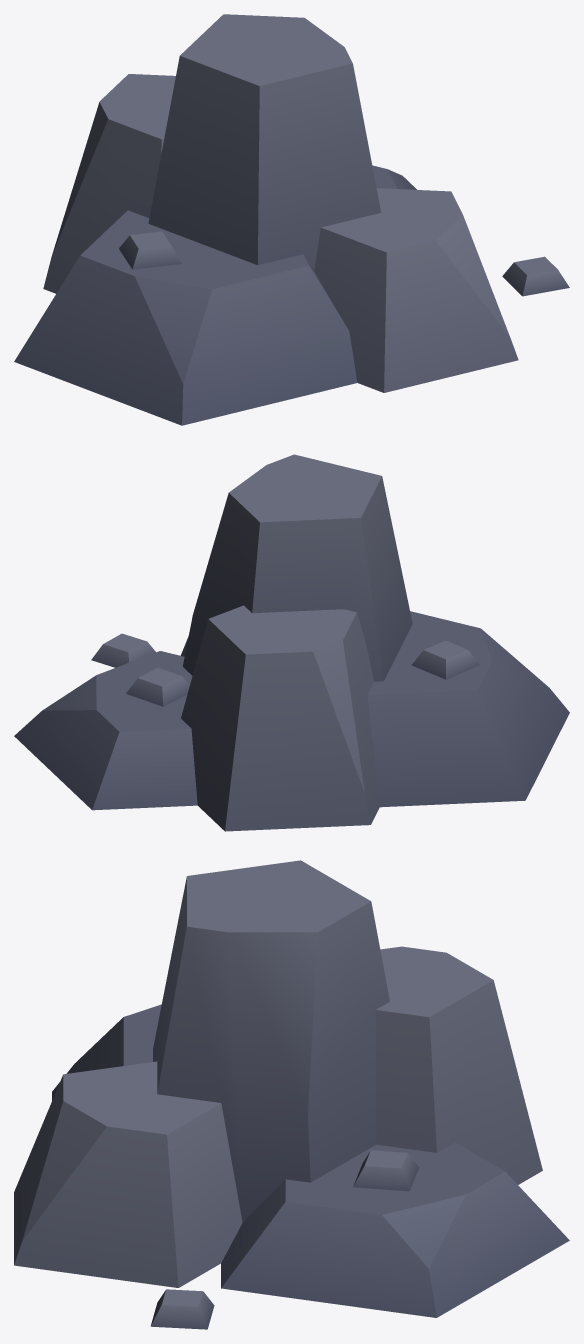
File: rock-b.glb
3 renders of one model, top to bottom at view 1: azimuth 30°, elevation 25°; view 2: azimuth 150°, elevation 25°; view 3: azimuth 270°, elevation 25°, orthographic. The views are drawn at different scales.
Visible parts, largest first — view 1: rock-b; view 2: rock-b; view 3: rock-b.
Part boxes in pixels (x1,y1,x2,y2): rock-b: (14,14,569,425); rock-b: (14,454,569,831); rock-b: (14,860,569,1329).
Bounding box in the file's own units: 0.8346 × 0.4186 × 0.7247.
